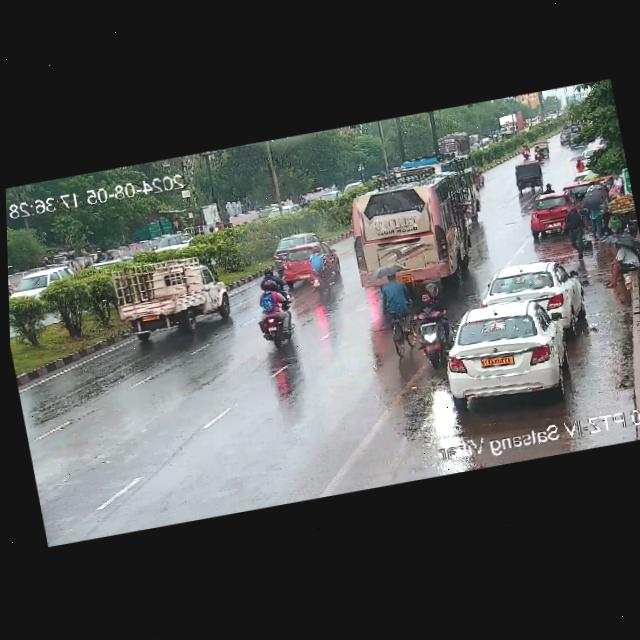bus: (347, 172, 480, 289)
car: (435, 294, 583, 411), (477, 254, 587, 331), (8, 259, 81, 307), (268, 232, 324, 273), (285, 239, 338, 279), (526, 194, 576, 236), (512, 159, 550, 194)
motorcycle: (376, 268, 421, 359), (409, 289, 453, 366), (249, 276, 293, 349), (304, 244, 338, 295), (254, 259, 293, 303)
person: (593, 236, 640, 290), (559, 200, 594, 254)
truck: (109, 249, 239, 345), (435, 128, 477, 163), (494, 110, 527, 139)
